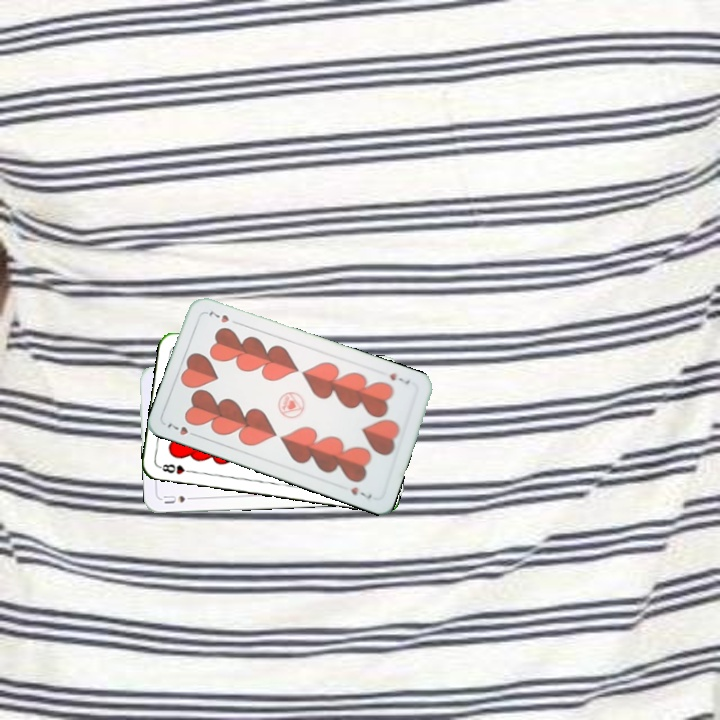H7: (163, 417, 201, 440), (386, 369, 413, 388)
H8: (155, 460, 196, 477)
SU: (160, 491, 199, 506)
